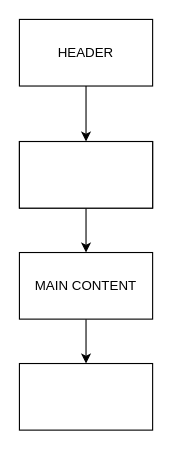
Some shapes in this 172 by 450 pixel diagram are drawn without their labels. The shapes that lost their labels are listed below. From the top down, each one's centre as x and y in pixels, then its label:
At point (85, 174): "NAVIGATION".
At point (85, 396): "FOOTER".
